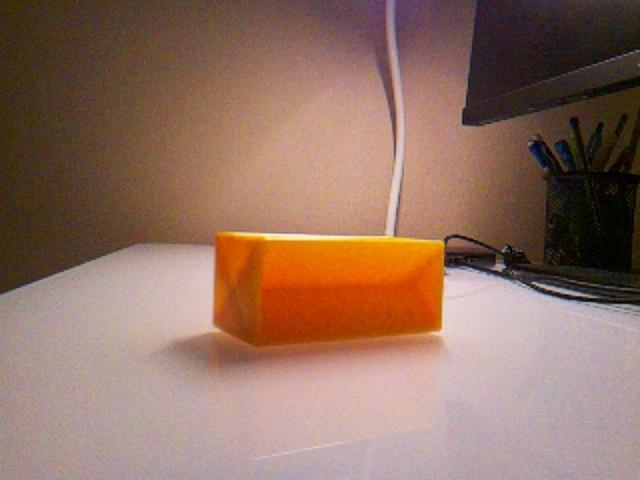yellow: (212, 229, 447, 347)
